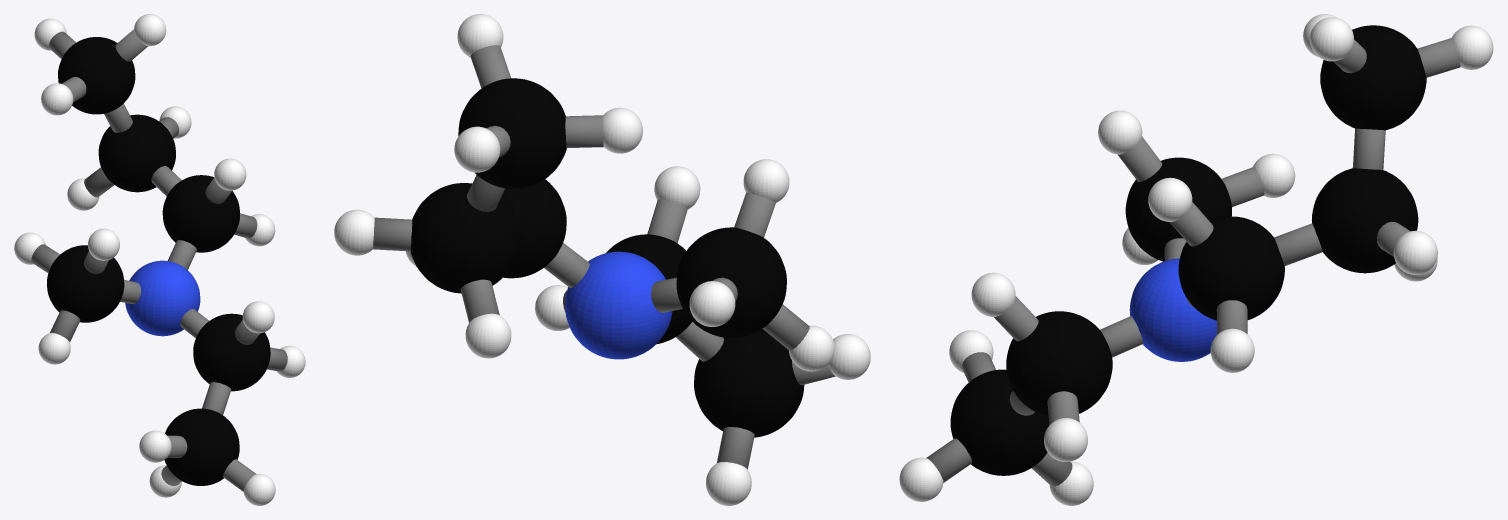
The model's file is ETILMETILPROPILAMINA.obj.
3 views of the same model, side by side, from view 1: azimuth 30°, elevation 25°; view 2: azimuth 150°, elevation 25°; view 3: azimuth 270°, elevation 25° (orthographic). The views are drawn at different scales.
Parts seen in each view (by area): view 1: Carbon_ball_Sphere, Hydrogen_ball_Sphere.001, Nitrogen_ball_Sphere.002, Stick_Cylinder.003_Cylinder.003, Stick_Cylinder.010_Cylinder.010, Stick_Cylinder.004_Cylinder.004, Stick_Cylinder.007_Cylinder.007, Stick_Cylinder.006_Cylinder.006, Stick_Cylinder.017_Cylinder.017, Stick_Cylinder.012_Cylinder.012, Stick_Cylinder.013_Cylinder.013, Stick_Cylinder.009_Cylinder.009 (+10 smaller); view 2: Carbon_ball_Sphere, Hydrogen_ball_Sphere.001, Nitrogen_ball_Sphere.002, Stick_Cylinder.019_Cylinder.019, Stick_Cylinder.015_Cylinder.015, Stick_Cylinder.008_Cylinder.008, Stick_Cylinder.002_Cylinder.002, Stick_Cylinder.004_Cylinder.004, Stick_Cylinder.020_Cylinder.020, Stick_Cylinder.007_Cylinder.007, Stick_Cylinder.012_Cylinder.012, Stick_Cylinder.006_Cylinder.006 (+3 smaller); view 3: Carbon_ball_Sphere, Hydrogen_ball_Sphere.001, Nitrogen_ball_Sphere.002, Stick_Cylinder.017_Cylinder.017, Stick_Cylinder.013_Cylinder.013, Stick_Cylinder.014_Cylinder.014, Stick_Cylinder.009_Cylinder.009, Stick_Cylinder.010_Cylinder.010, Stick_Cylinder_Cylinder, Stick_Cylinder.008_Cylinder.008, Stick_Cylinder.002_Cylinder.002, Stick_Cylinder.016_Cylinder.016 (+4 smaller).
Part boxes in pixels (left/top/right/bottom): Carbon_ball_Sphere: left=47, top=37, right=270, bottom=485; Hydrogen_ball_Sphere.001: left=14, top=14, right=305, bottom=505; Nitrogen_ball_Sphere.002: left=125, top=260, right=200, bottom=336; Stick_Cylinder.003_Cylinder.003: left=202, top=382, right=231, bottom=414; Stick_Cylinder.010_Cylinder.010: left=223, top=459, right=255, bottom=491; Stick_Cylinder.004_Cylinder.004: left=50, top=310, right=80, bottom=342; Stick_Cylinder.007_Cylinder.007: left=115, top=29, right=148, bottom=61; Stick_Cylinder.006_Cylinder.006: left=167, top=240, right=196, bottom=269; Stick_Cylinder.017_Cylinder.017: left=151, top=166, right=181, bottom=196; Stick_Cylinder.012_Cylinder.012: left=84, top=167, right=114, bottom=197; Stick_Cylinder.013_Cylinder.013: left=104, top=103, right=132, bottom=132; Stick_Cylinder.009_Cylinder.009: left=31, top=244, right=59, bottom=272; Carbon_ball_Sphere: left=410, top=78, right=804, bottom=437; Hydrogen_ball_Sphere.001: left=334, top=14, right=870, bottom=505; Nitrogen_ball_Sphere.002: left=565, top=251, right=672, bottom=359; Stick_Cylinder.019_Cylinder.019: left=373, top=217, right=412, bottom=251; Stick_Cylinder.015_Cylinder.015: left=565, top=115, right=603, bottom=147; Stick_Cylinder.008_Cylinder.008: left=734, top=192, right=775, bottom=237; Stick_Cylinder.002_Cylinder.002: left=647, top=199, right=687, bottom=243; Stick_Cylinder.004_Cylinder.004: left=763, top=304, right=809, bottom=350; Stick_Cylinder.020_Cylinder.020: left=717, top=427, right=754, bottom=469; Stick_Cylinder.007_Cylinder.007: left=470, top=45, right=510, bottom=88; Stick_Cylinder.012_Cylinder.012: left=460, top=279, right=499, bottom=322; Stick_Cylinder.006_Cylinder.006: left=544, top=243, right=589, bottom=288; Carbon_ball_Sphere: left=950, top=25, right=1426, bottom=475; Hydrogen_ball_Sphere.001: left=899, top=14, right=1493, bottom=505; Nitrogen_ball_Sphere.002: left=1129, top=258, right=1216, bottom=361; Stick_Cylinder.017_Cylinder.017: left=1274, top=223, right=1322, bottom=265; Stick_Cylinder.013_Cylinder.013: left=1352, top=128, right=1385, bottom=169; Stick_Cylinder.014_Cylinder.014: left=1417, top=38, right=1460, bottom=77; Stick_Cylinder.009_Cylinder.009: left=1221, top=167, right=1264, bottom=207; Stick_Cylinder.010_Cylinder.010: left=926, top=438, right=971, bottom=482; Stick_Cylinder_Cylinder: left=1100, top=316, right=1143, bottom=357; Stick_Cylinder.008_Cylinder.008: left=1118, top=136, right=1162, bottom=181; Stick_Cylinder.002_Cylinder.002: left=994, top=296, right=1038, bottom=341; Stick_Cylinder.016_Cylinder.016: left=1169, top=202, right=1213, bottom=246.
Size of the model in its own units: 5.46 by 7.72 by 7.73.
